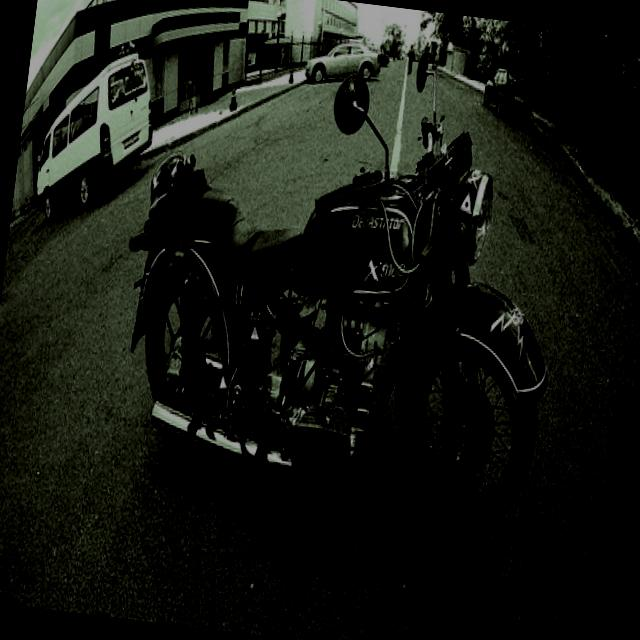Vehicle: (98, 17, 586, 544), (32, 40, 162, 232), (30, 42, 160, 231), (305, 36, 382, 88), (478, 65, 536, 118)
